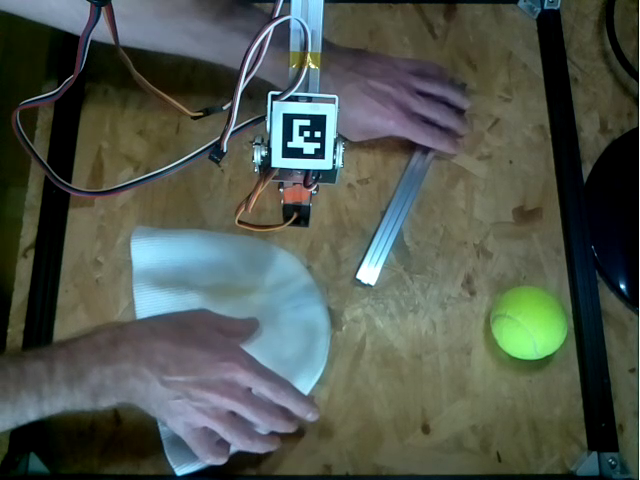tennis_ball: (492, 283, 571, 360)
